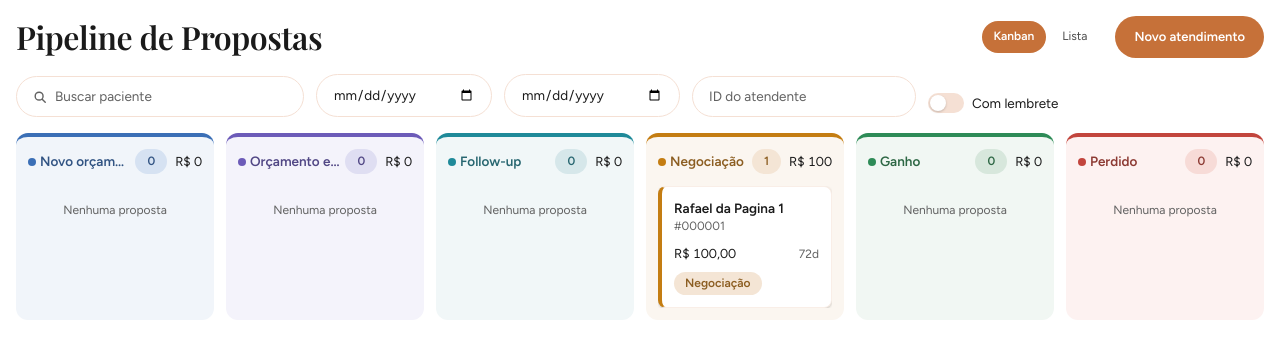
Test case: Proposals › o toggle troca para a lista e volta, e a lista pagina de 20 em 20
Click the tab "Lista" at [1075, 37], box [1050, 21, 1100, 53]
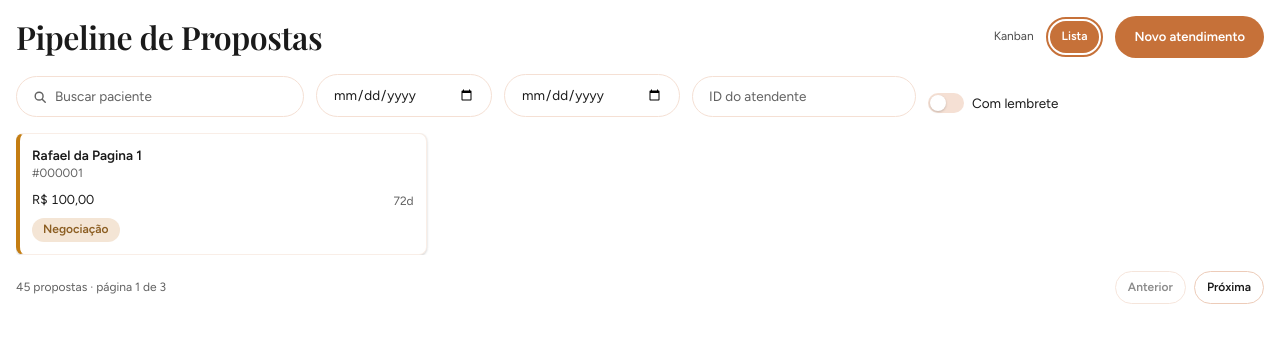
Expected: the text "Rafael da Pagina 1" is shown, [32, 147, 142, 163]
Click the tab "Kanban" at [1014, 37], box [982, 21, 1046, 53]
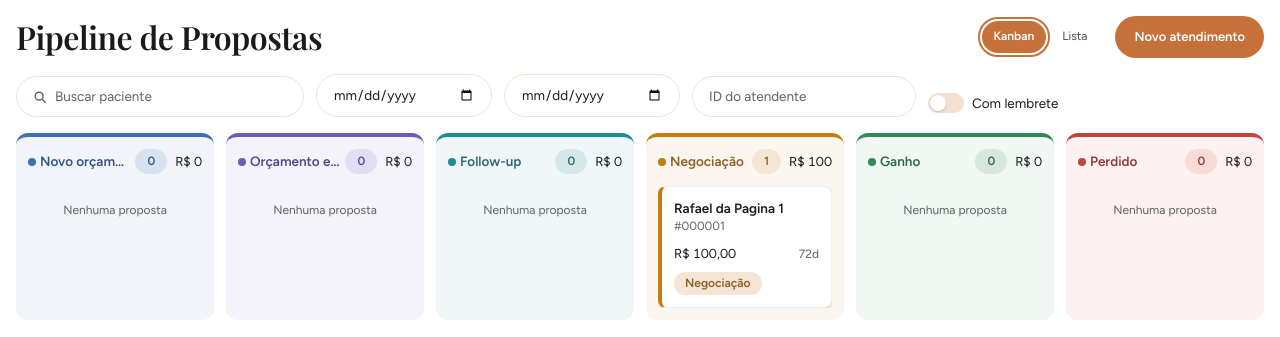
Expected: the heading "Negociação" is shown, [658, 152, 744, 171]
